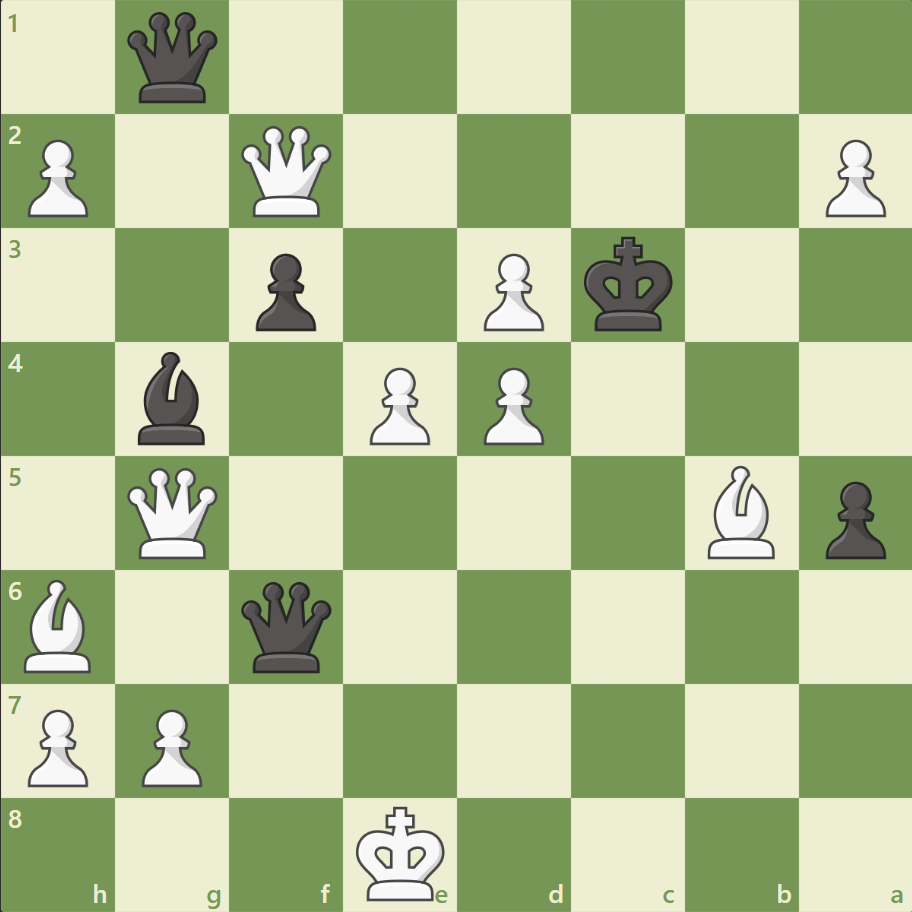B: (698, 460, 782, 563), (17, 574, 101, 676)
K: (351, 798, 451, 906)
P: (133, 700, 208, 791), (20, 700, 95, 791), (474, 359, 549, 450), (474, 246, 549, 337), (20, 132, 95, 223), (361, 359, 435, 450), (815, 132, 889, 223)
Q: (237, 122, 336, 222), (124, 463, 223, 562)
b: (131, 347, 215, 449)
k: (579, 231, 679, 339)
p: (247, 246, 322, 337), (815, 473, 889, 564)
q: (237, 576, 336, 676), (124, 9, 223, 108)
